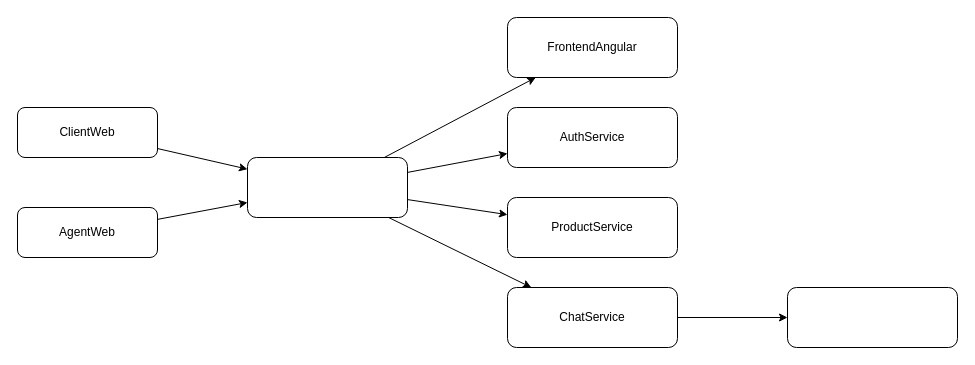
Some shapes in this 975 by 365 pixel diagram are drawn without their labels. Each missing label, with the centre of its shape:
GatewayNginx: (x=327, y=187)
RedisPubSub: (x=872, y=317)
